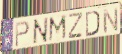D: (85, 10, 101, 38)
M: (48, 14, 68, 44)
N: (32, 17, 50, 47), (102, 7, 119, 35)
P: (15, 20, 31, 49)
Z: (68, 11, 84, 39)
